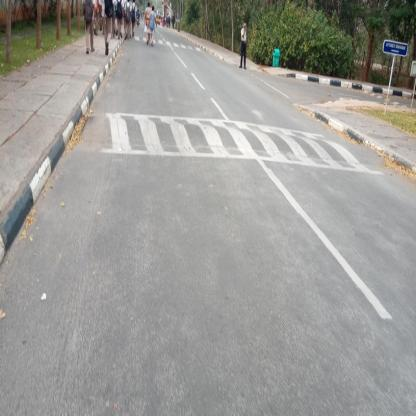speed-bumps: (82, 104, 374, 180), (132, 26, 206, 58)
